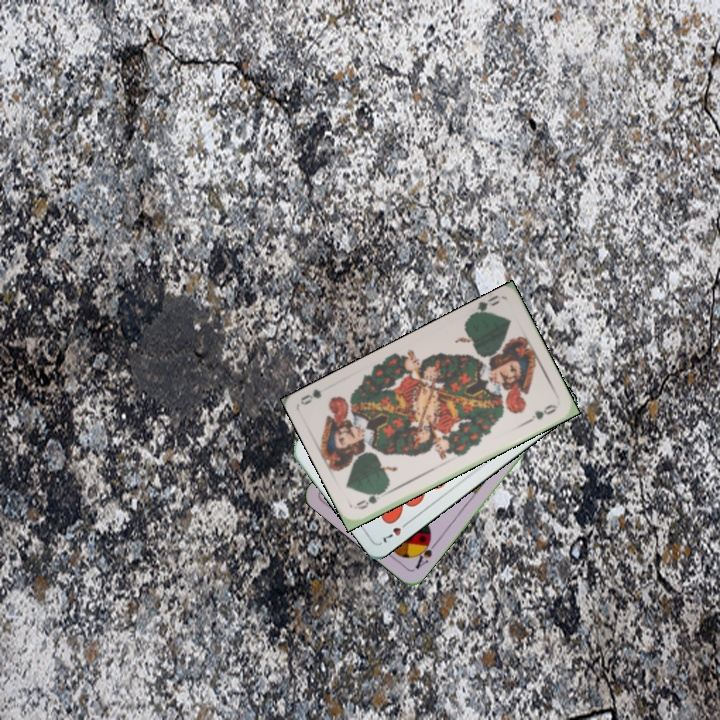GO: (353, 485, 389, 512), (466, 292, 502, 319)
H7: (379, 517, 413, 545)
SA: (411, 534, 440, 572)
